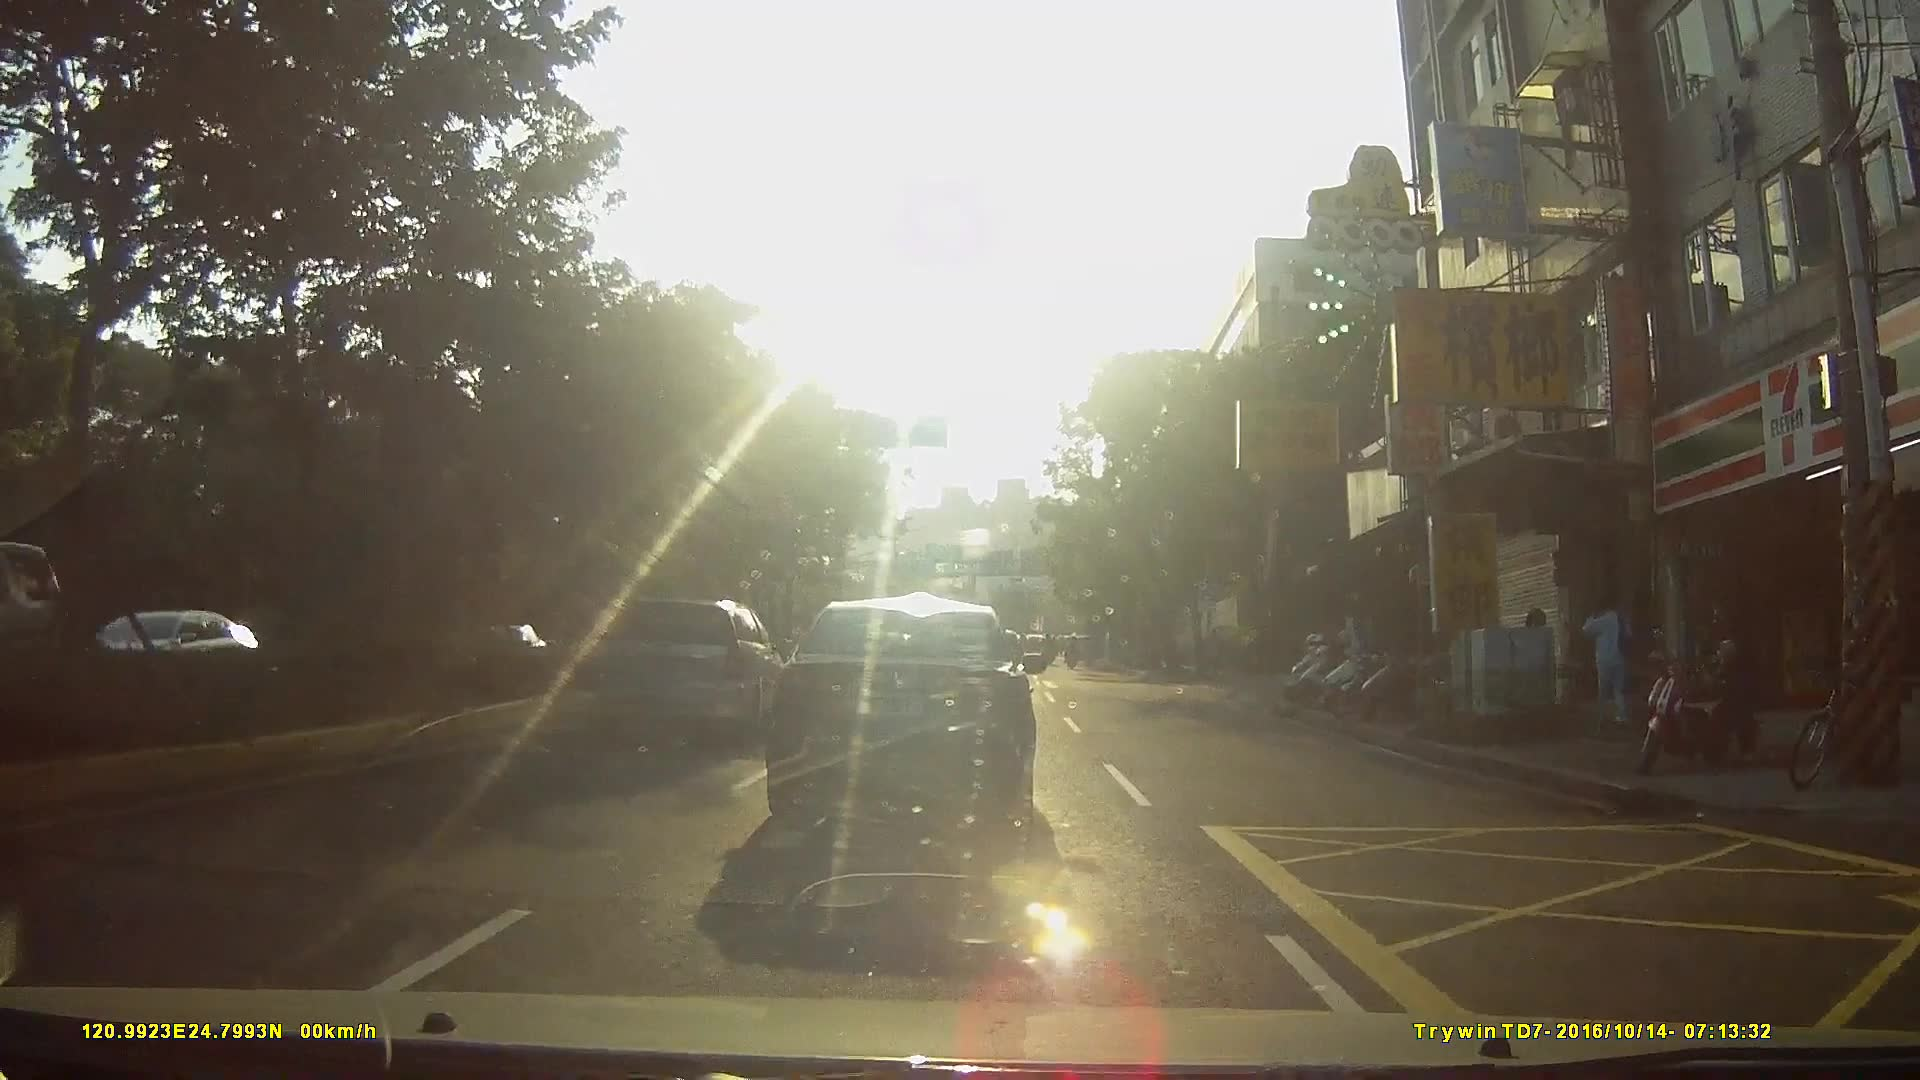pedestrian: (1581, 594, 1643, 725), (1709, 617, 1760, 769)
vehicle: (767, 599, 1053, 838), (603, 594, 791, 733), (70, 604, 258, 699), (1, 546, 72, 712)
